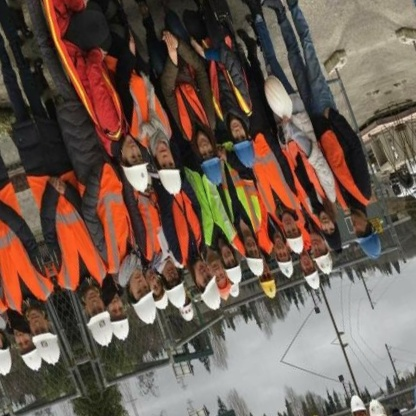blue: (348, 221, 389, 270), (229, 131, 266, 175), (197, 154, 232, 193)
vest: (20, 160, 117, 305), (51, 25, 140, 154), (69, 156, 153, 286), (189, 24, 264, 134), (311, 122, 379, 223), (180, 158, 244, 257), (157, 61, 227, 151), (113, 68, 181, 158), (239, 130, 303, 225), (208, 144, 270, 242), (279, 130, 336, 219), (157, 189, 216, 273), (124, 190, 179, 273)
white: (260, 72, 301, 129), (82, 310, 122, 356), (119, 153, 159, 198), (127, 284, 165, 330), (195, 273, 230, 317), (155, 160, 190, 201), (162, 278, 194, 314), (311, 247, 340, 283), (108, 313, 138, 347), (284, 227, 311, 263), (274, 252, 300, 286), (224, 259, 249, 291), (245, 251, 270, 282), (303, 268, 326, 296), (228, 281, 244, 303), (154, 296, 171, 312)
